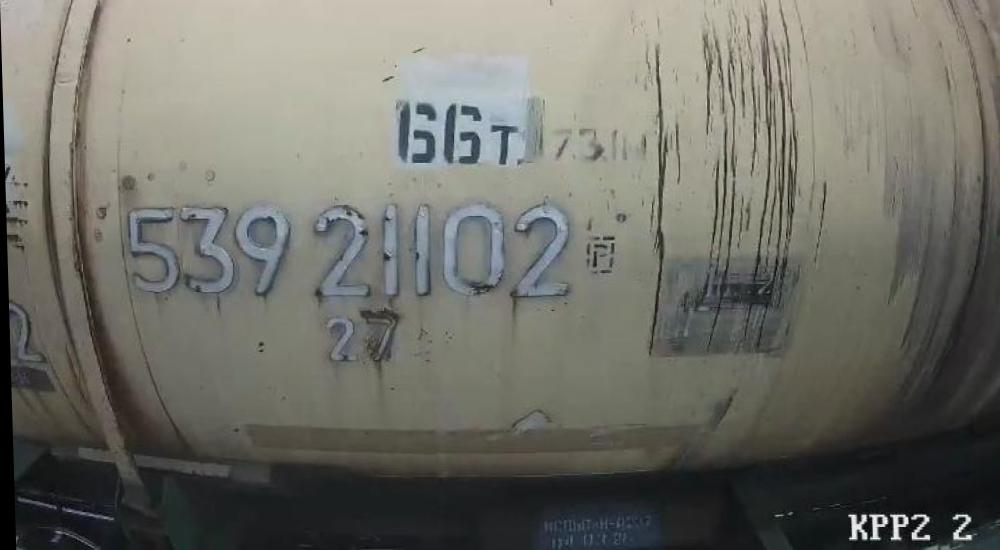Wagon-number: (120, 198, 583, 304)
